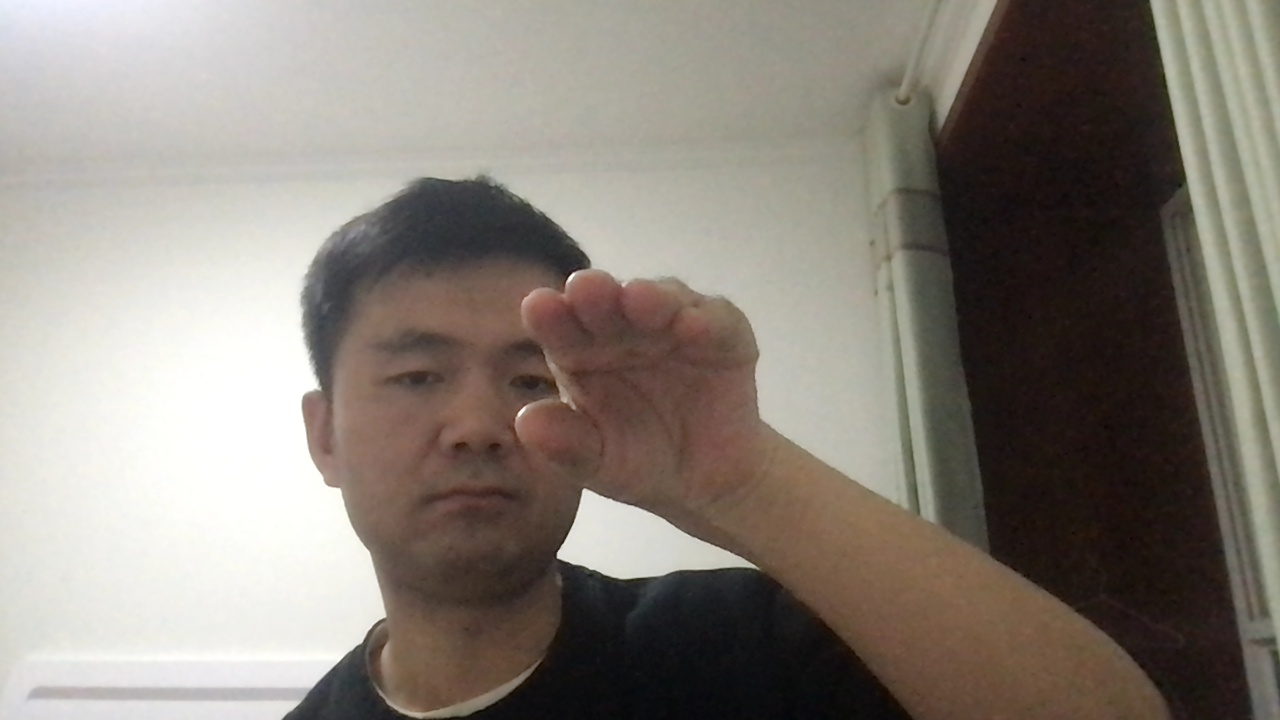no: (510, 265, 788, 507)
